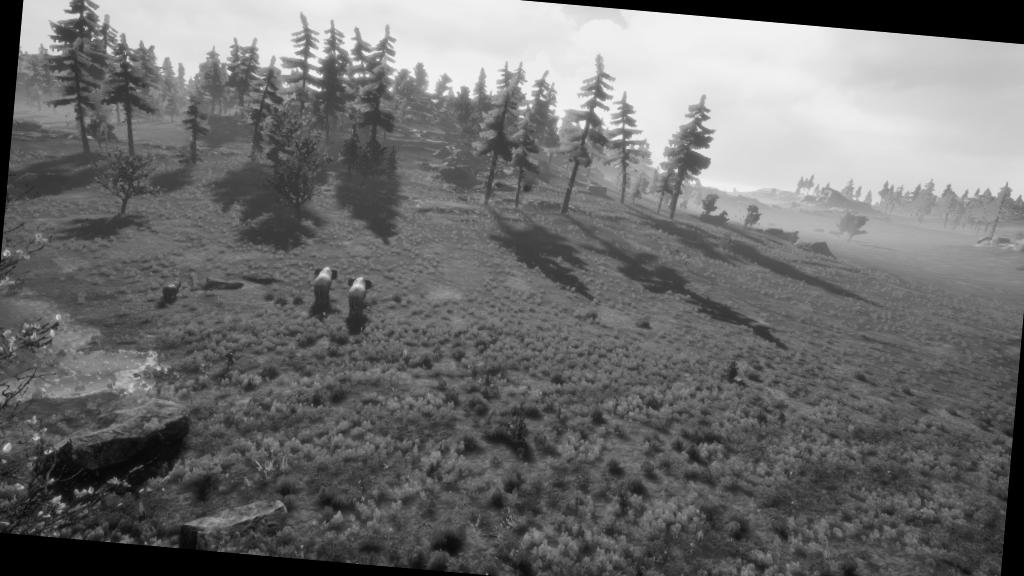Fire: (0, 296, 38, 390), (510, 192, 536, 215), (479, 183, 499, 207)
elephant: (340, 273, 376, 326), (306, 264, 340, 312)
hippopotamus: (155, 273, 191, 308)
human: (222, 347, 238, 371)
